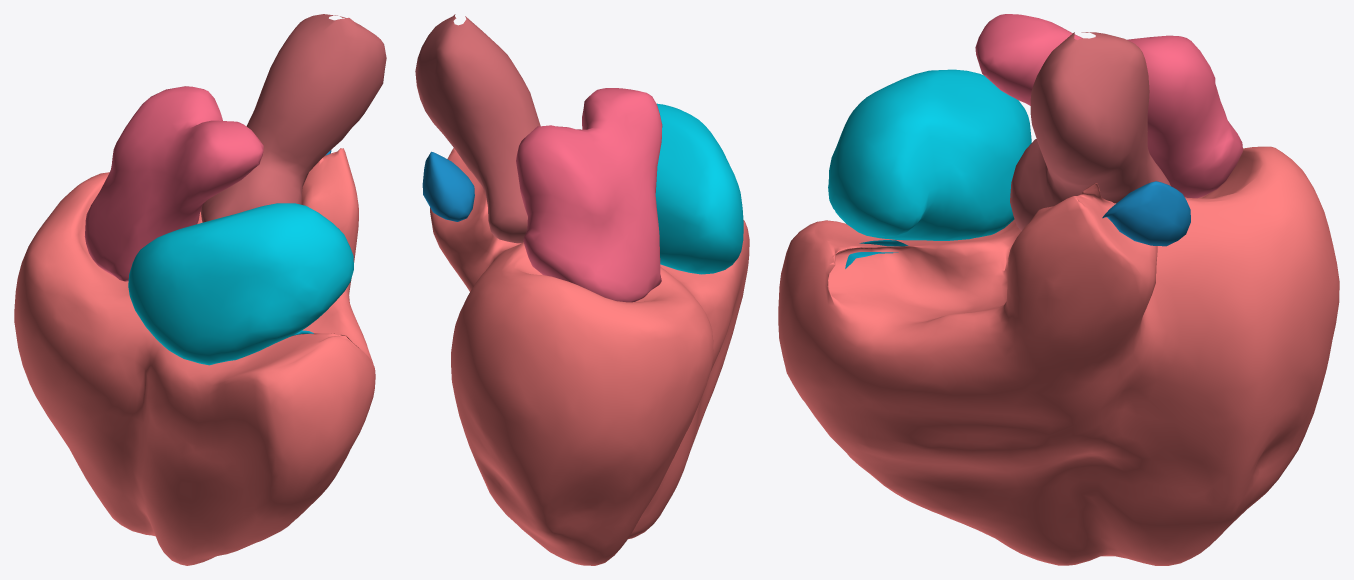
The model's file is frame_58.glb.
The picture shows the model from 3 angles, left to right: view 1: azimuth 30°, elevation 25°; view 2: azimuth 150°, elevation 25°; view 3: azimuth 270°, elevation 25°; orthographic projection. The views are drawn at different scales.
Parts seen in each view (by area): view 1: Renderer Node; view 2: Renderer Node; view 3: Renderer Node.
Part boxes in pixels (bbox=[...]): Renderer Node: bbox=[14, 14, 386, 565]; Renderer Node: bbox=[415, 14, 749, 565]; Renderer Node: bbox=[778, 14, 1339, 565].
Bounding box in the file's own units: 104 × 158 × 128.
